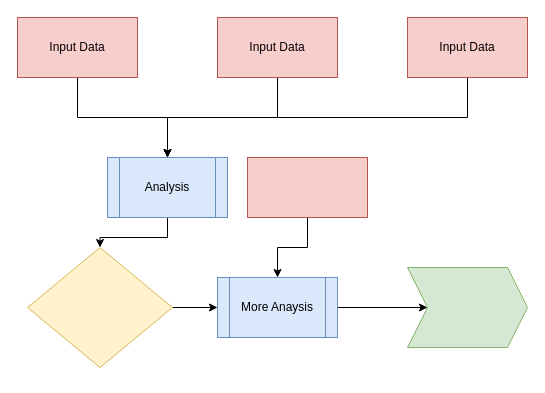
This 545x393 diagram has some shape labels left out. The shapes that lost their labels are listed below. From the top down, each one's centre as x and y in pixels, then its label:
the point at 307,187: More Input Data
the point at 99,307: Intermediate Steps
the point at 467,307: Final Rsults
